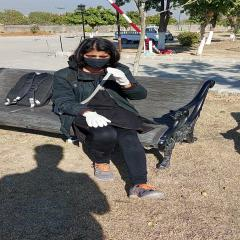gloved: (84, 112, 110, 128), (107, 67, 129, 85)
